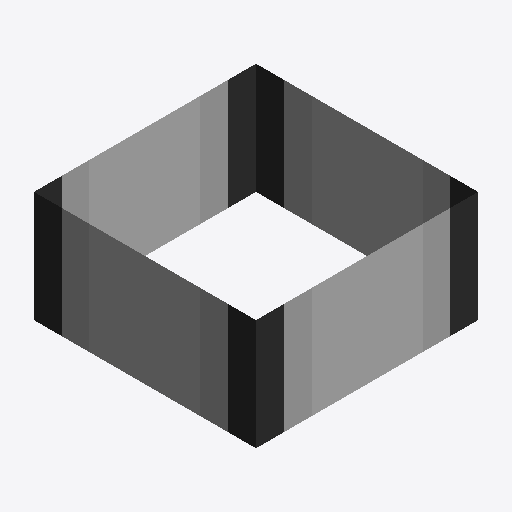
Isometric view (azimuth 45°, elevation 35.3°) of a Minecraft model made of 4 cuboids, textured from the same repository.
Parts seen in each view (by area): element 1, element 4, element 2, element 3.
Part boxes in pixels (x1,y1,x2,y2): element 1: (34, 192, 255, 447); element 4: (256, 192, 477, 447); element 2: (35, 64, 255, 255); element 3: (256, 64, 476, 255).
Bounding box in the file's own units: 8 × 4 × 8.